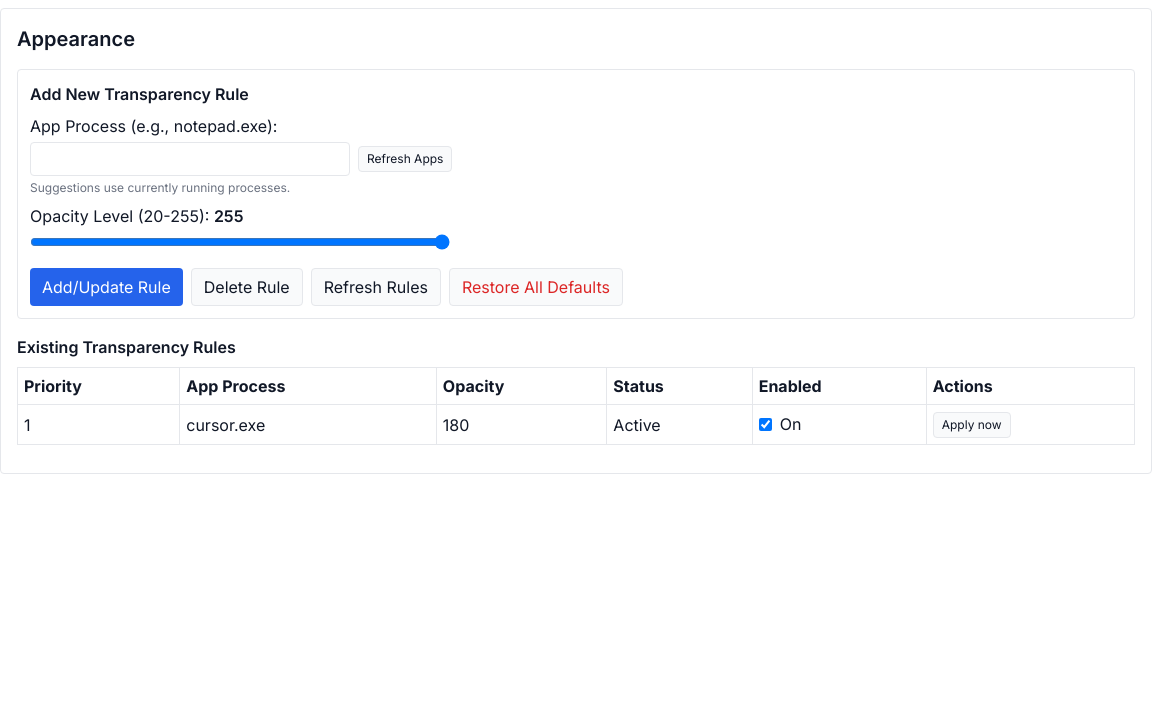
Scenario: AppearanceTab › shows cancellation feedback when restore defaults is cancelled
The image size is (1152, 720).
Click the button "Restore All Defaults": (536, 287) left=449, top=268, right=623, bottom=306
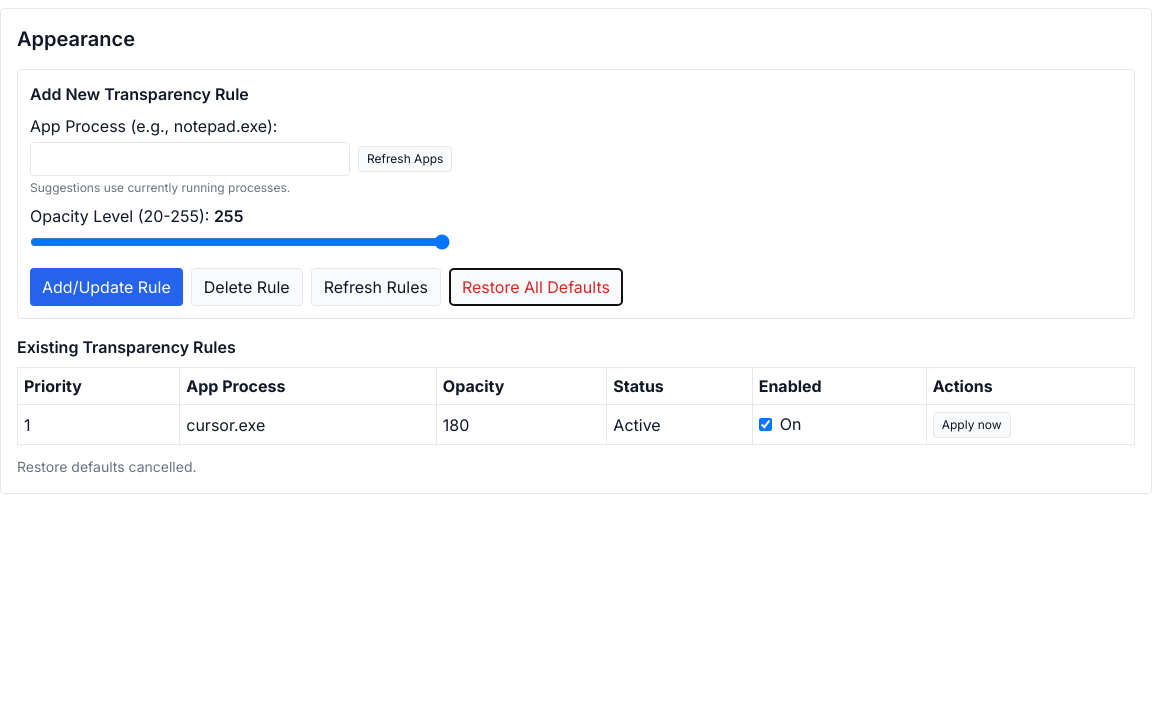
Expected: the text "Restore defaults cancelled." is shown, left=17, top=458, right=196, bottom=475
